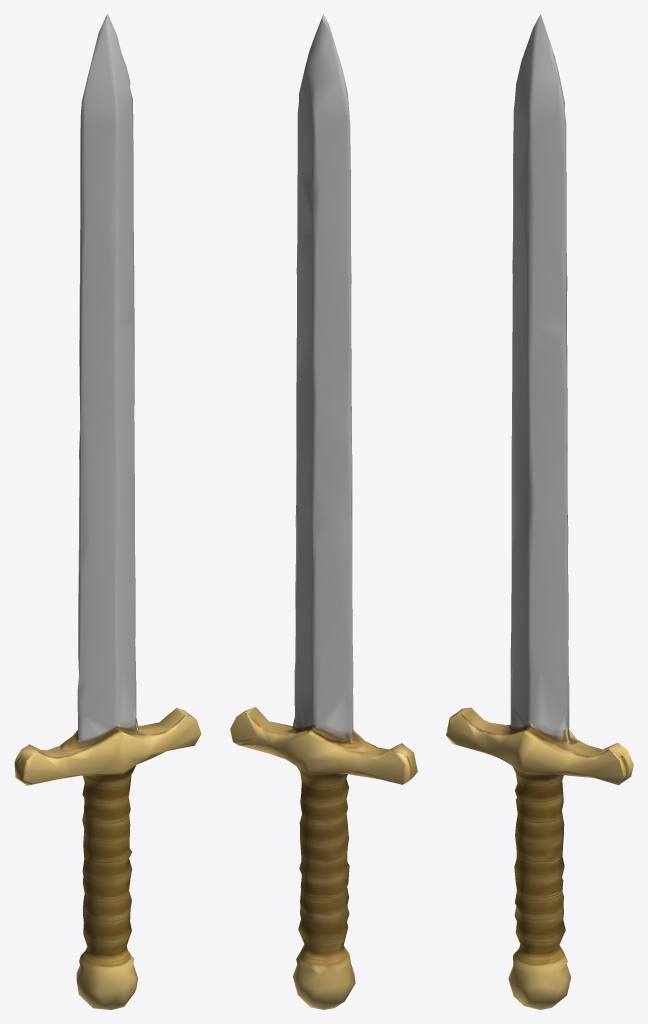
Rendered from wpn_sword3.glb.
3 renders of one model, left to right at view 1: azimuth 30°, elevation 25°; view 2: azimuth 150°, elevation 25°; view 3: azimuth 330°, elevation 25°, orthographic.
Bounding box in the file's own units: 0.3595 × 1.91 × 0.1257.
1 material, 1 textured.
